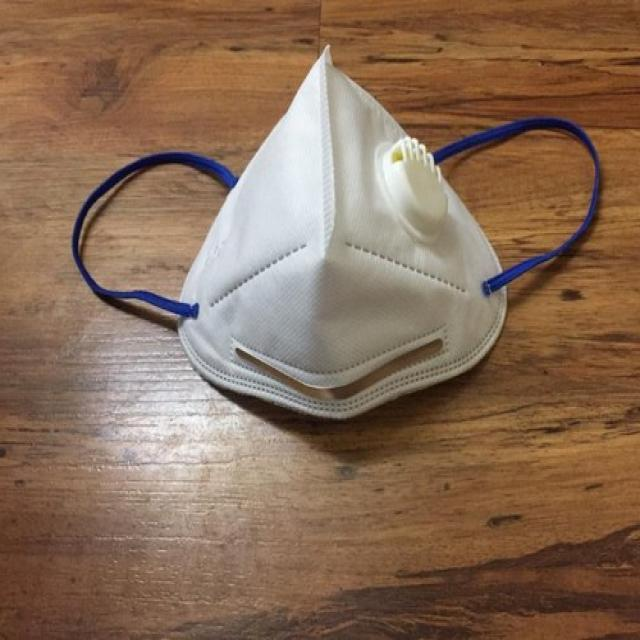face mask: (77, 52, 607, 412)
